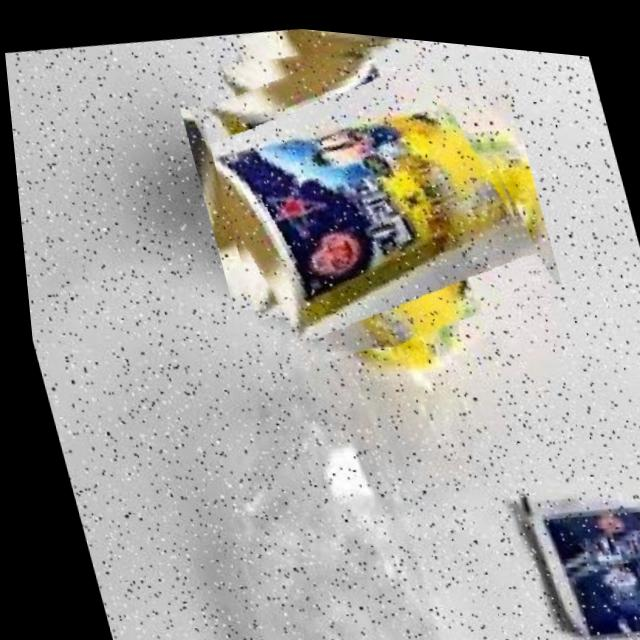Miscellaneous: (181, 14, 551, 373)
